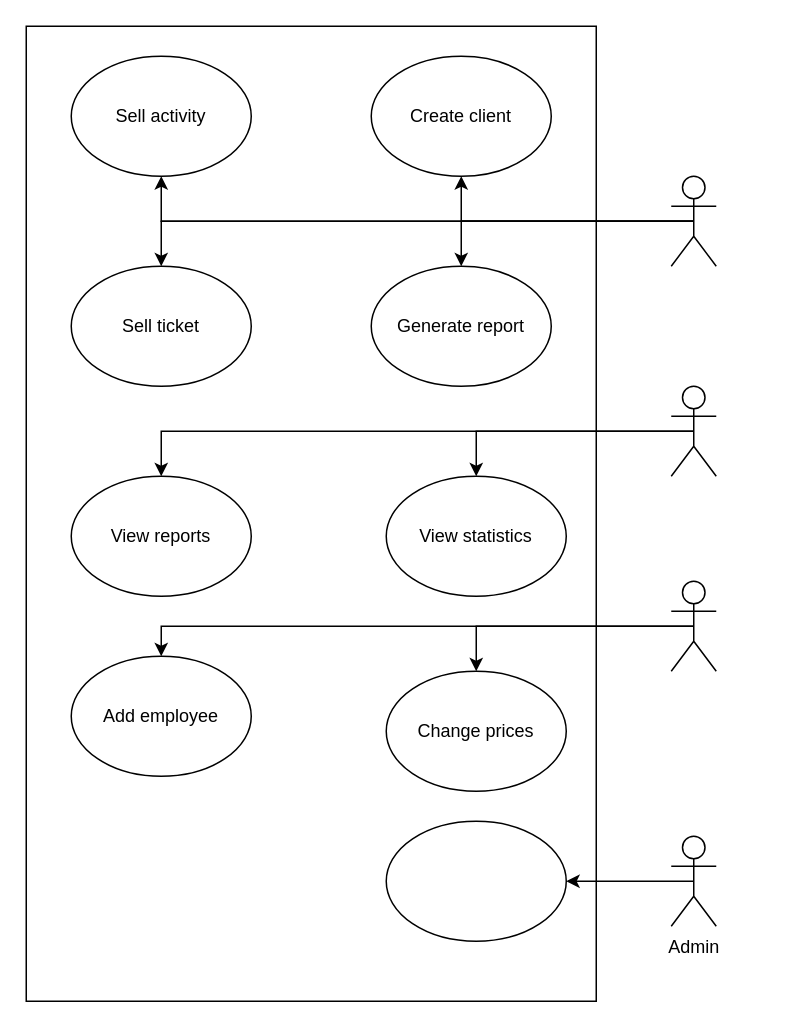
Image size: 795x1028. Some labels were removed from this diagram. Here are the shapes that lost their labels. From the top down, the centre of each, then its label:
At point 693,220: "Employee".
At point 693,430: "MenagerEmployee".
At point 693,625: "SuperManager".
At point 475,880: "Do magic".
